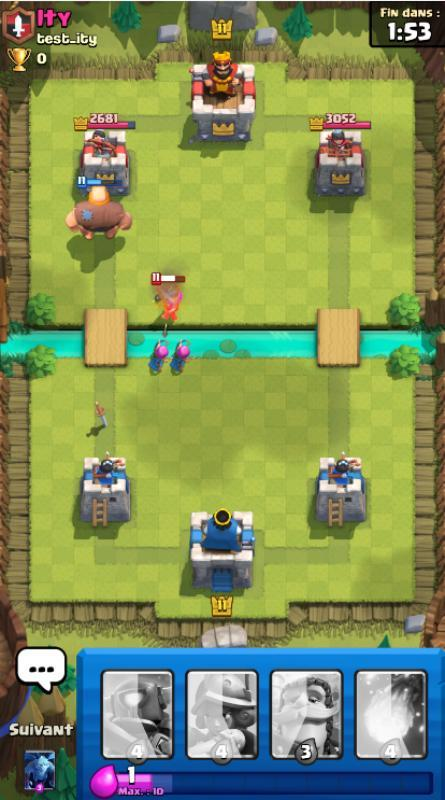archere: (169, 339, 194, 373), (149, 339, 170, 371)
geant: (65, 175, 133, 238)
mousquetaire: (151, 272, 187, 322)
